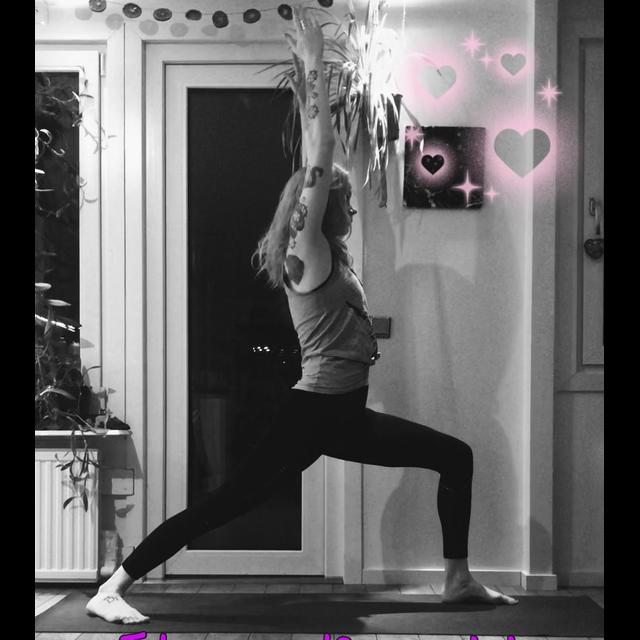Warrior_I: (81, 7, 515, 613)
